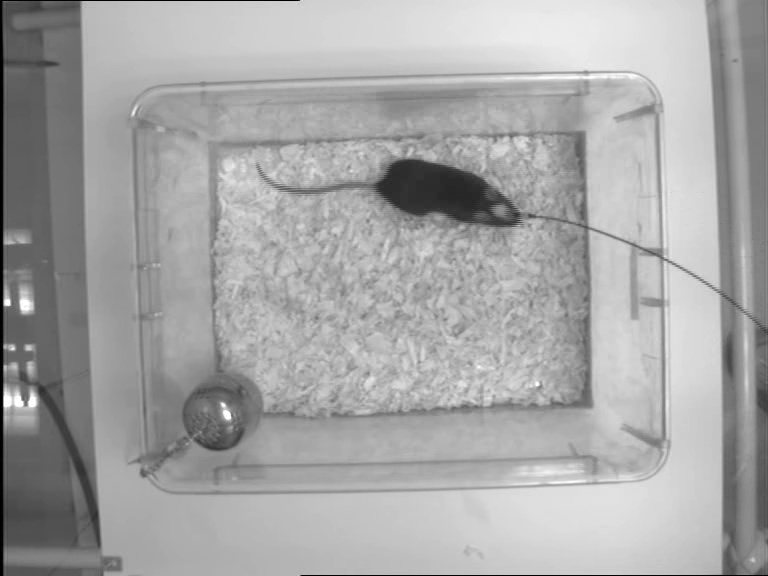mice: (252, 155, 525, 230)
